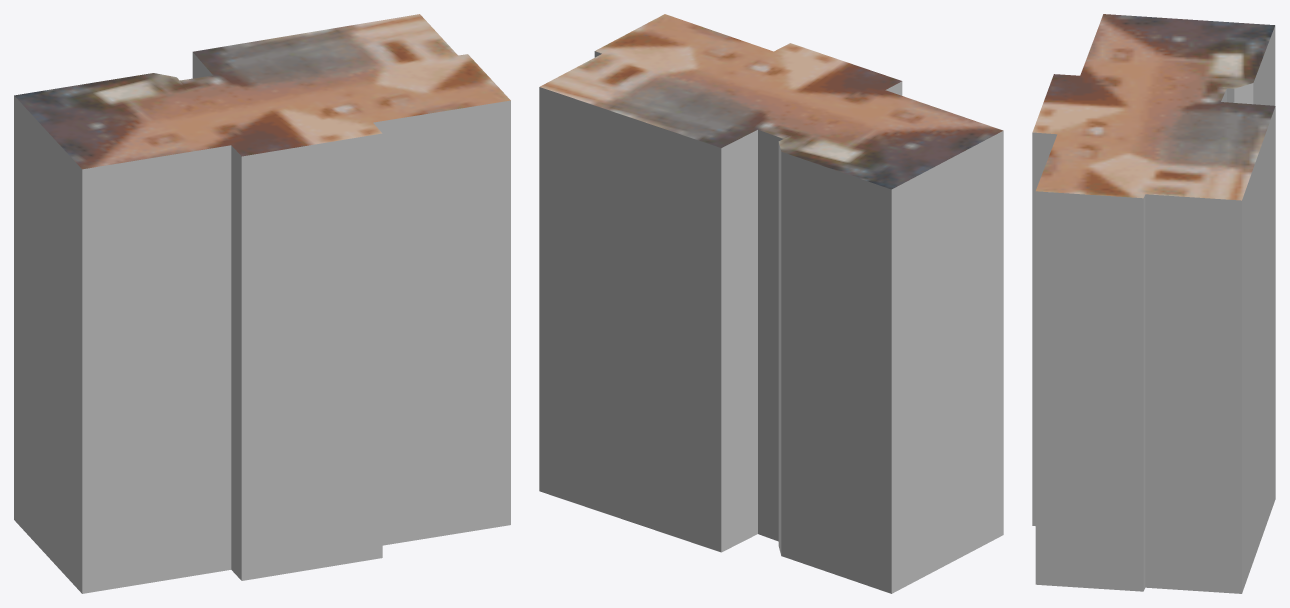
File: DEBW_0010007TxbO.gltf
3 renders of one model, left to right at view 1: azimuth 30°, elevation 25°; view 2: azimuth 150°, elevation 25°; view 3: azimuth 270°, elevation 25°, orthographic. The views are drawn at different scales.
Visible parts, largest first — view 1: Z_UP; view 2: Z_UP; view 3: Z_UP.
Boxes of the visible parts, <box> form: Z_UP: <box>14,14,510,593</box>; Z_UP: <box>539,14,1003,593</box>; Z_UP: <box>1032,14,1275,593</box>.
Bounding box in the file's own units: 21.17 × 20.82 × 11.66.
Materials: 2 (1 with a texture image).
